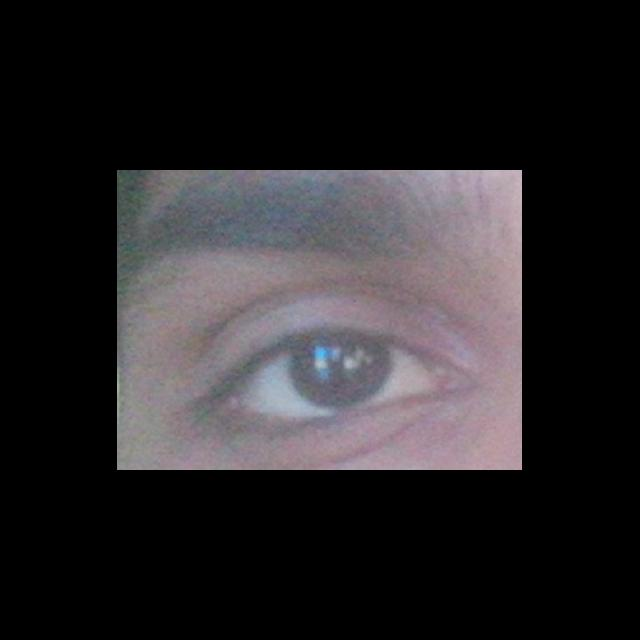eye: (241, 343, 434, 415)
iris: (291, 344, 389, 407)
